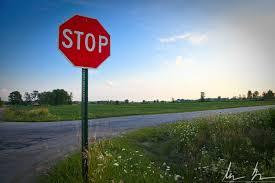Pole: (82, 69, 88, 181)
Sign: (57, 14, 111, 68)
